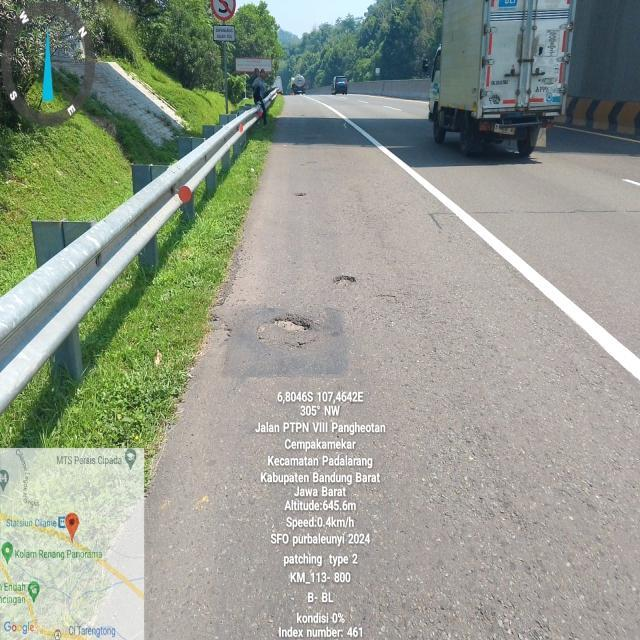Buraco: (266, 312, 317, 335), (330, 274, 359, 289), (293, 191, 308, 199)
